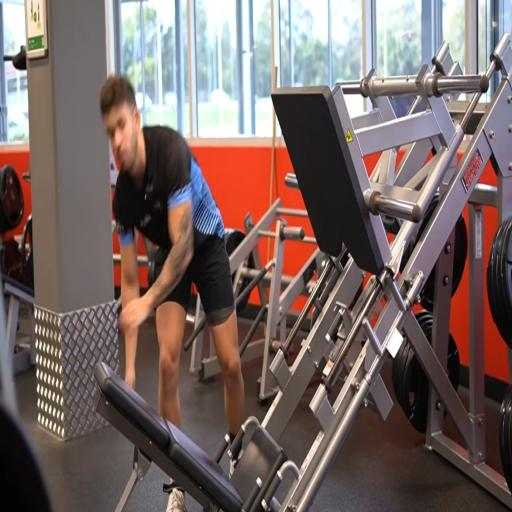Leg Press: (94, 38, 510, 510)
